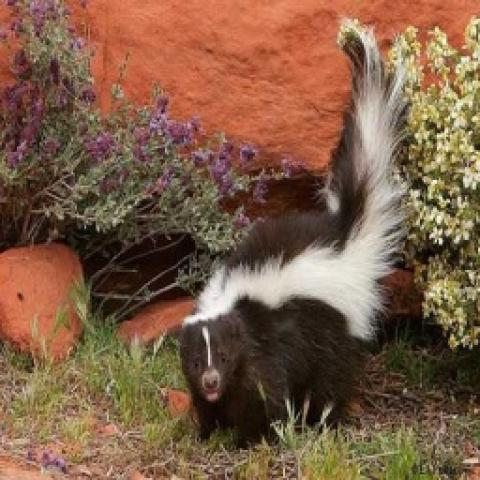small_animal: (176, 56, 400, 446)
